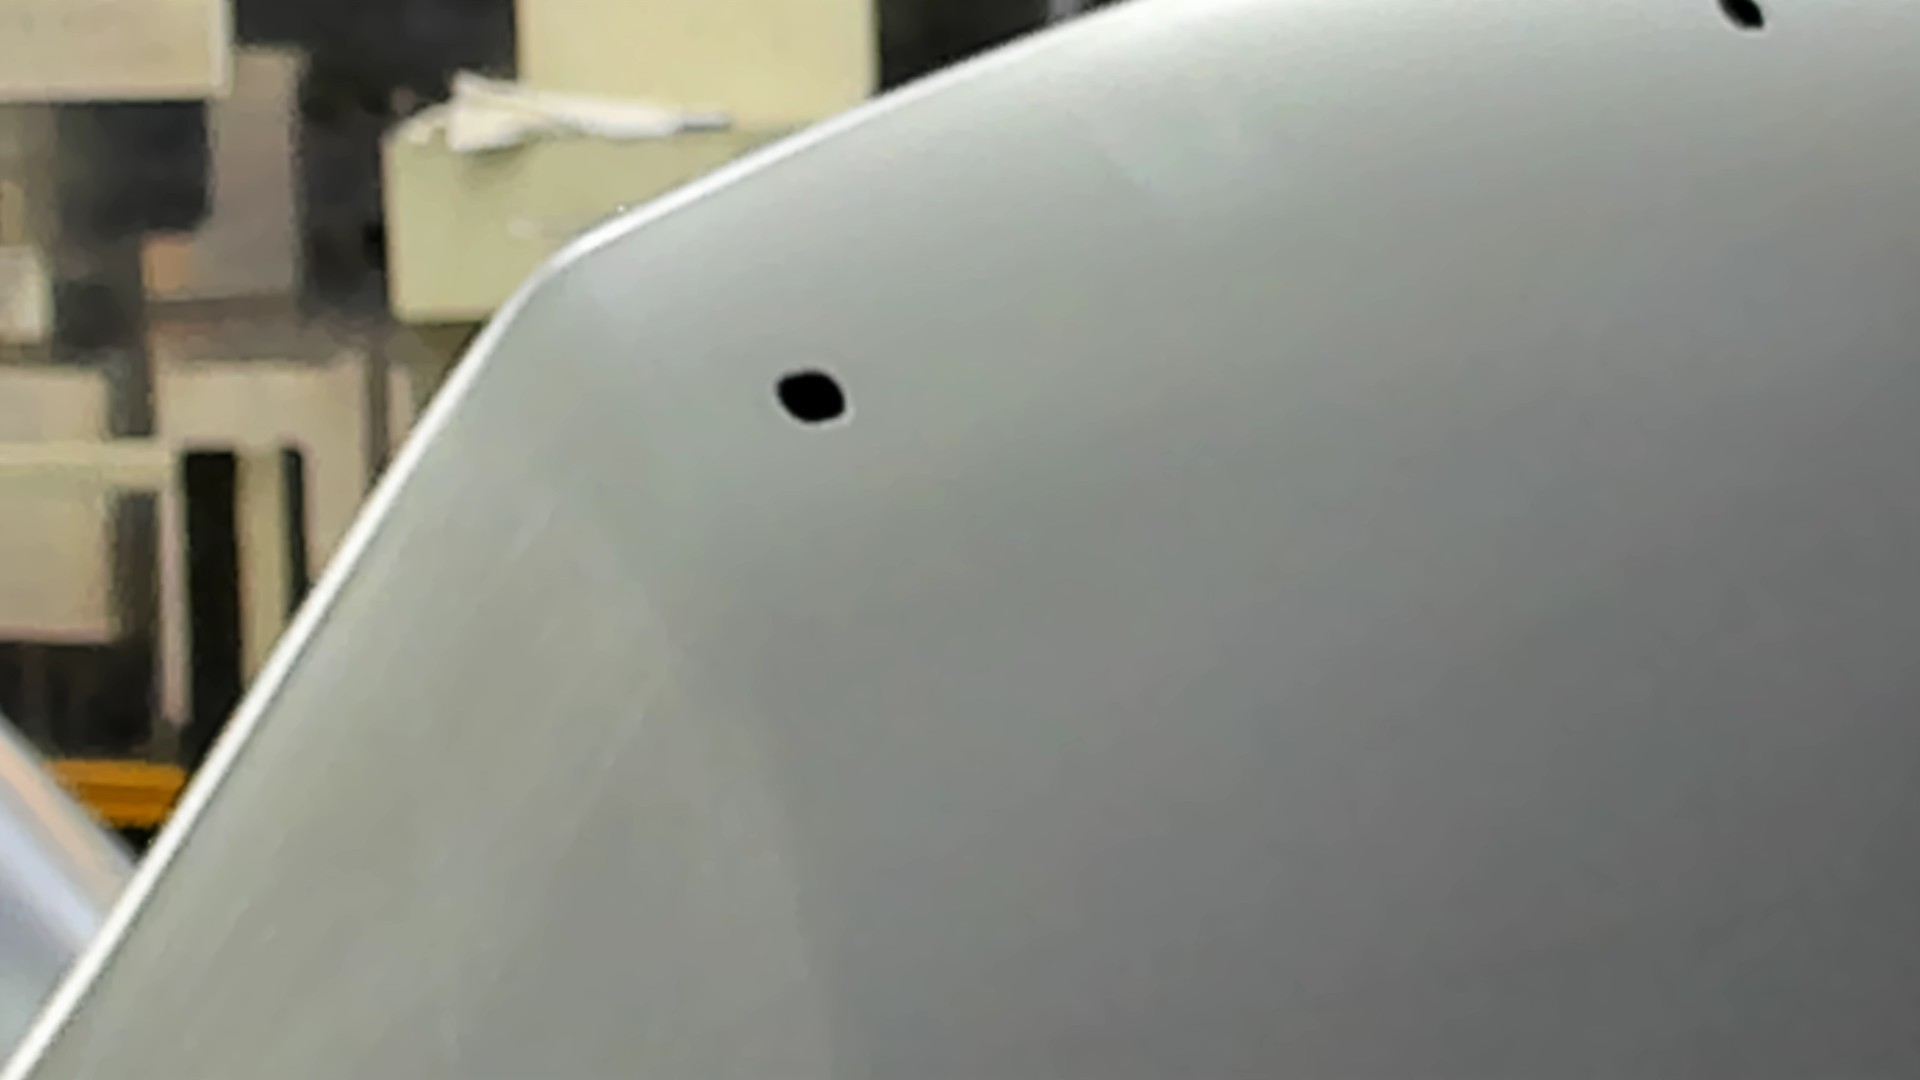amorfo: (770, 363, 855, 429), (1718, 1, 1778, 41)
